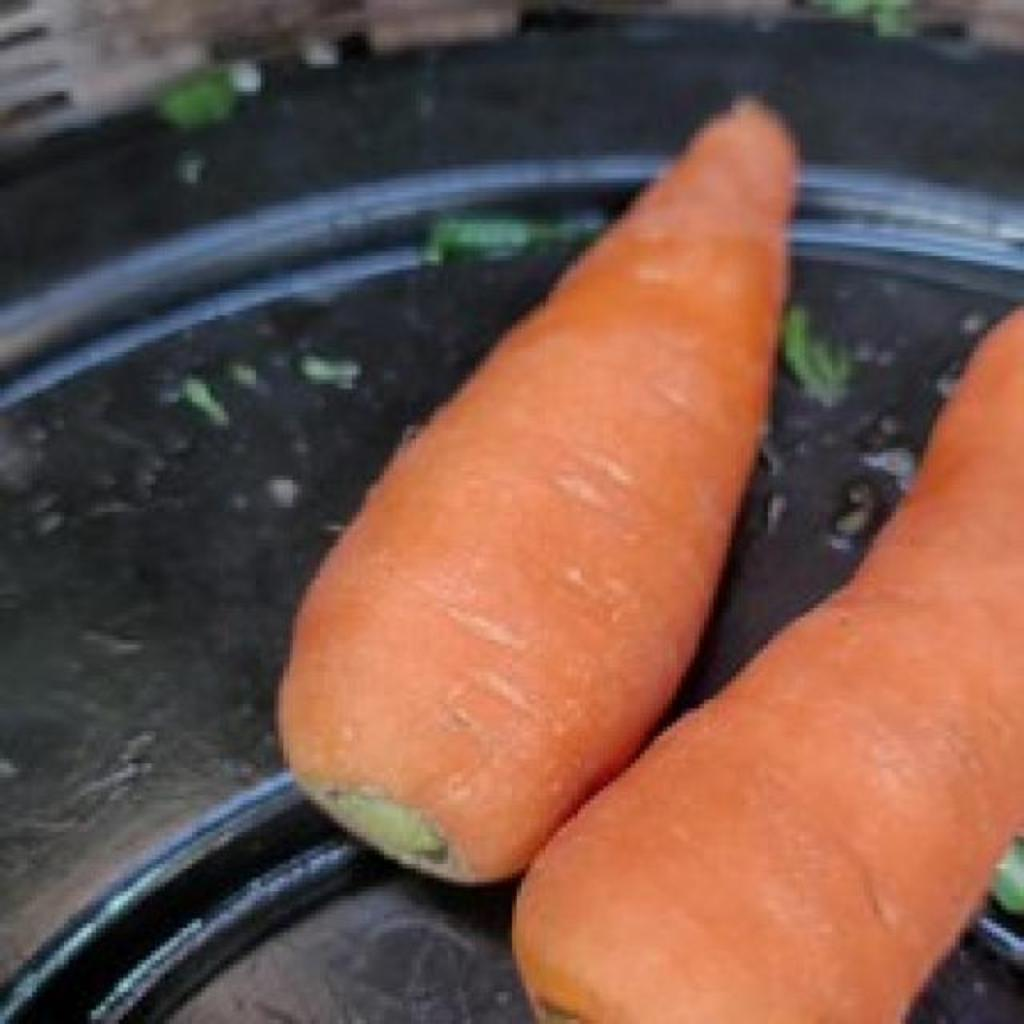carrot: (280, 106, 794, 882), (516, 310, 1024, 1024)
